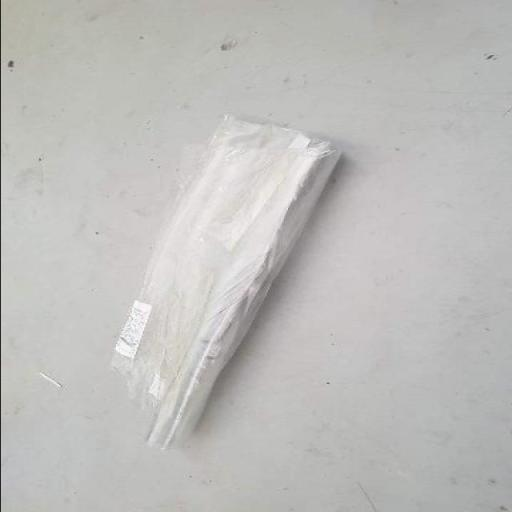plastic-bag: (110, 111, 345, 451)
